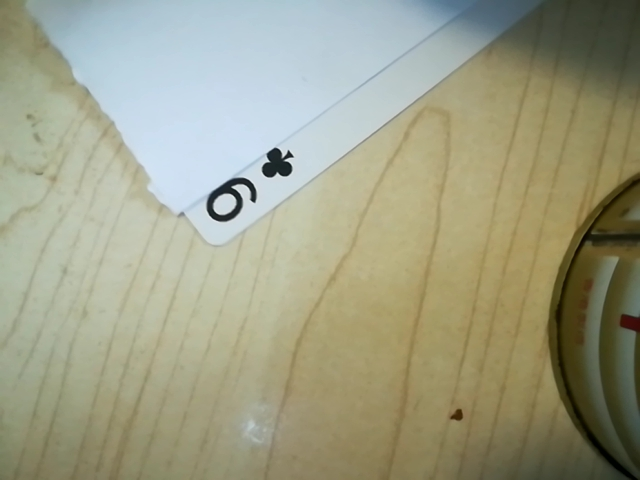mh 9: (189, 143, 305, 230)
